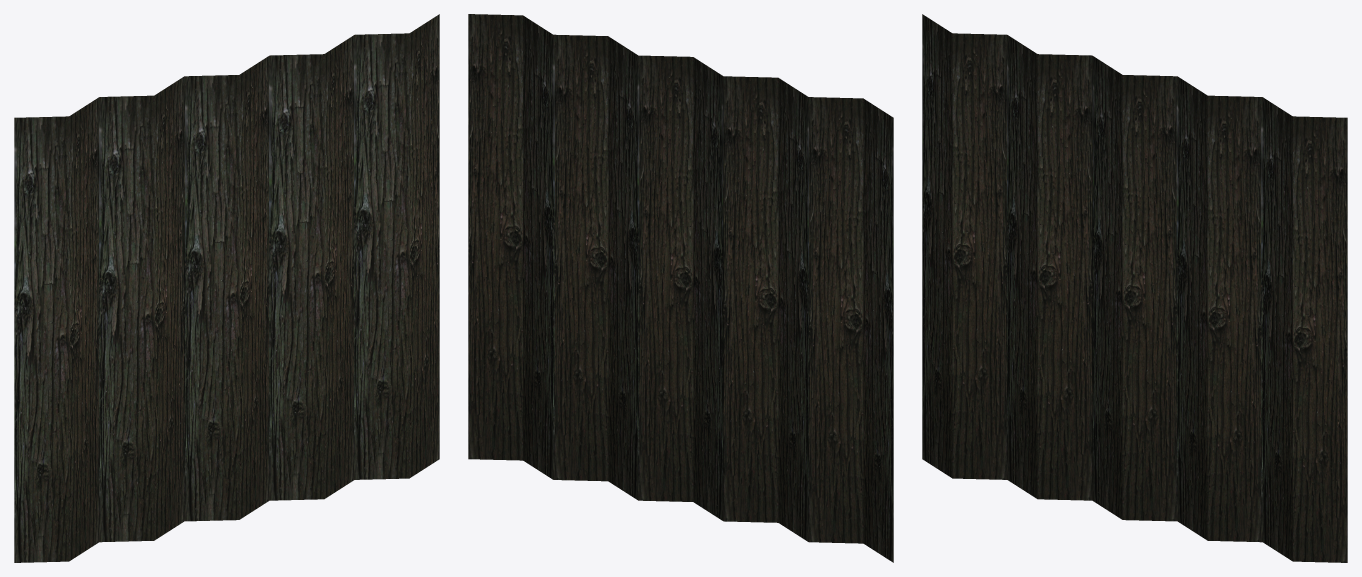
File: TreePlane.glb
3 renders of one model, left to right at view 1: azimuth 30°, elevation 25°; view 2: azimuth 150°, elevation 25°; view 3: azimuth 330°, elevation 25°, orthographic.
Visible parts, largest first — view 1: Plane; view 2: Plane; view 3: Plane.
Boxes of the visible parts, box(x1,y1,x2,y2) form: Plane: box(14, 14, 439, 562); Plane: box(468, 14, 893, 562); Plane: box(922, 14, 1347, 562).
Size of the model in its own units: 10 by 10 by 0.5.
1 material, 1 textured.
